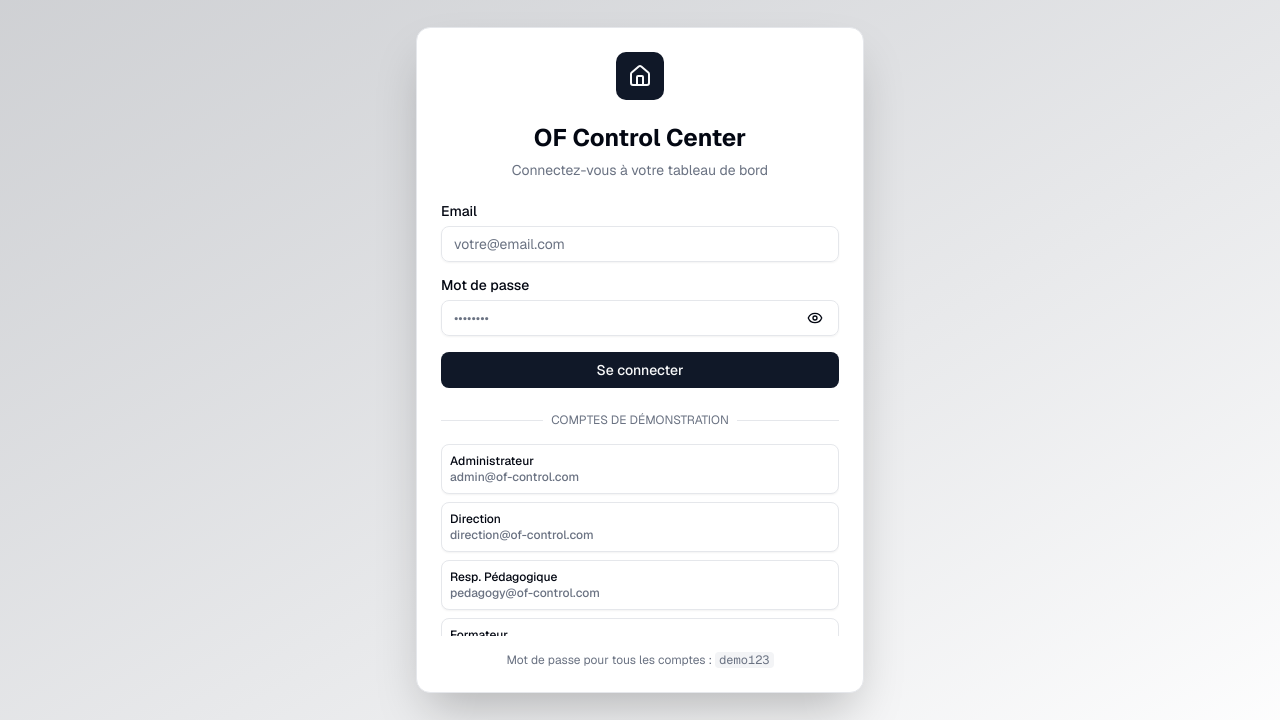
LoginForm › shows loading state during login
Type "admin@of-control.com" into the field labelled "Email". click: point(640, 244)
box: [441,226,839,262]
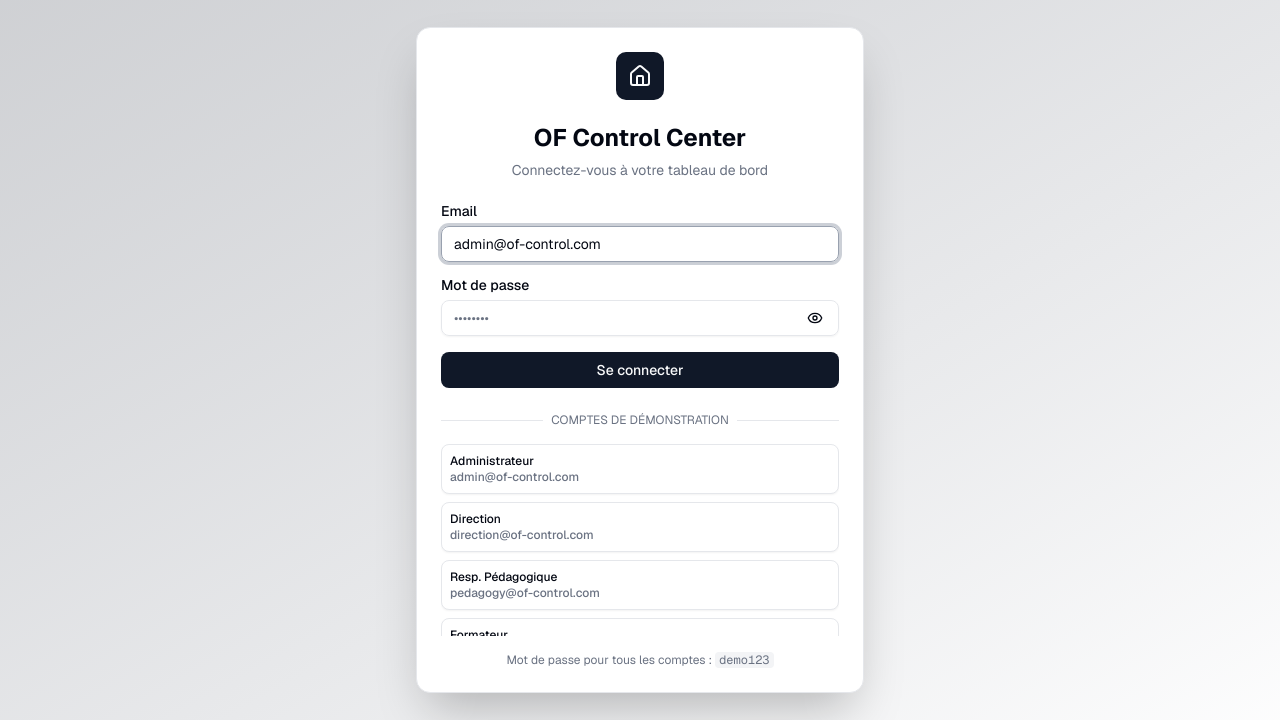
Type "demo123" into the password field labelled "Mot de passe". click: point(640, 318)
box: [441,300,839,336]
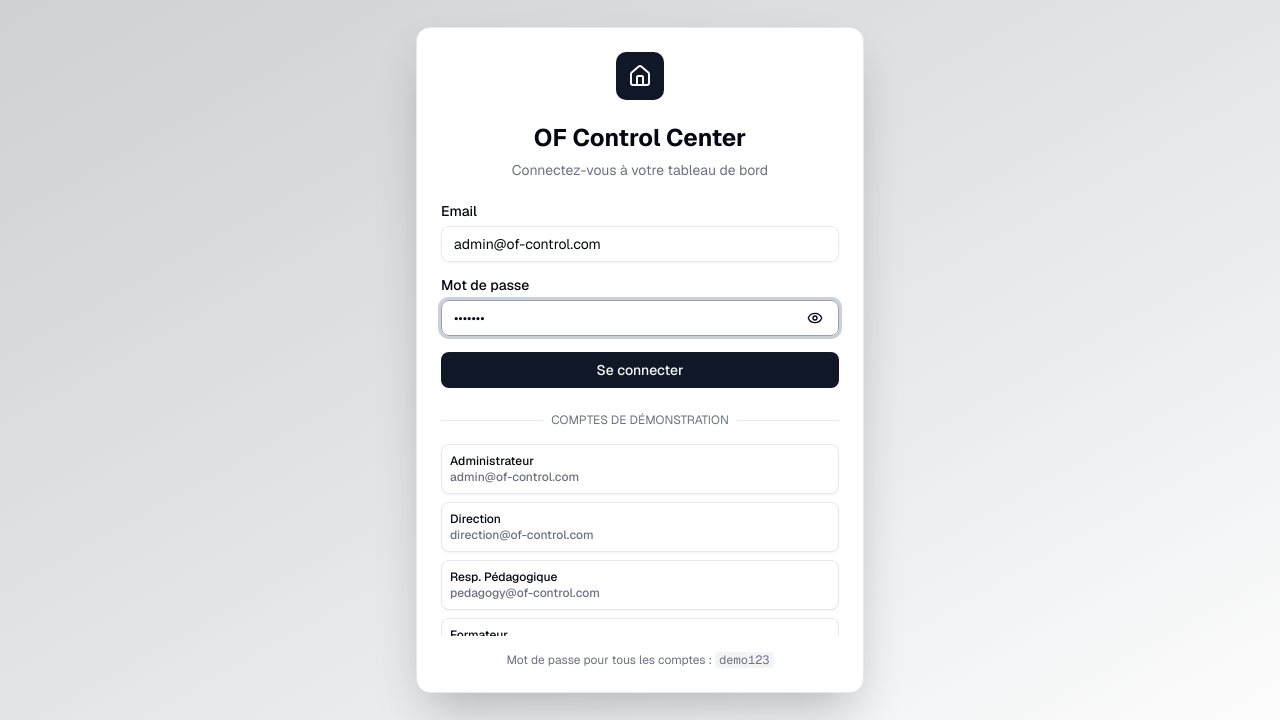
Click the button "Se connecter". click: point(640, 370)
box: [441,352,839,388]
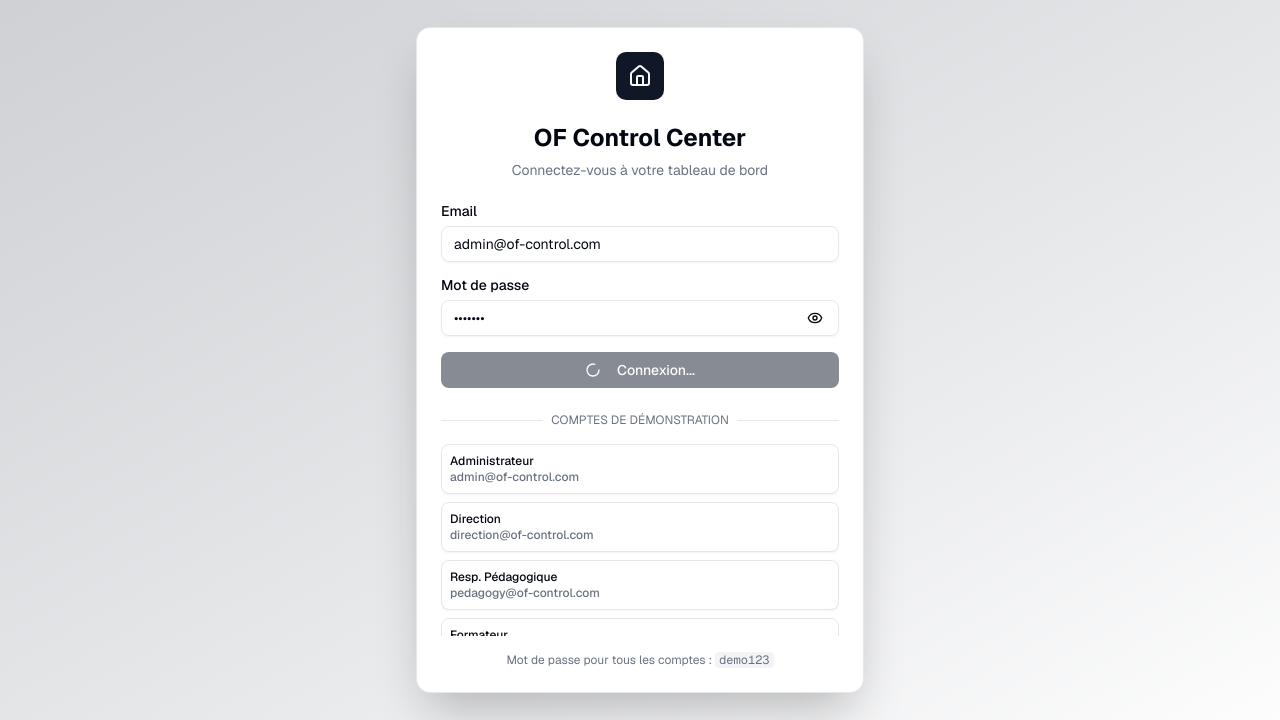
Check: the button "Connexion..." is disabled, box [441,352,839,388]
